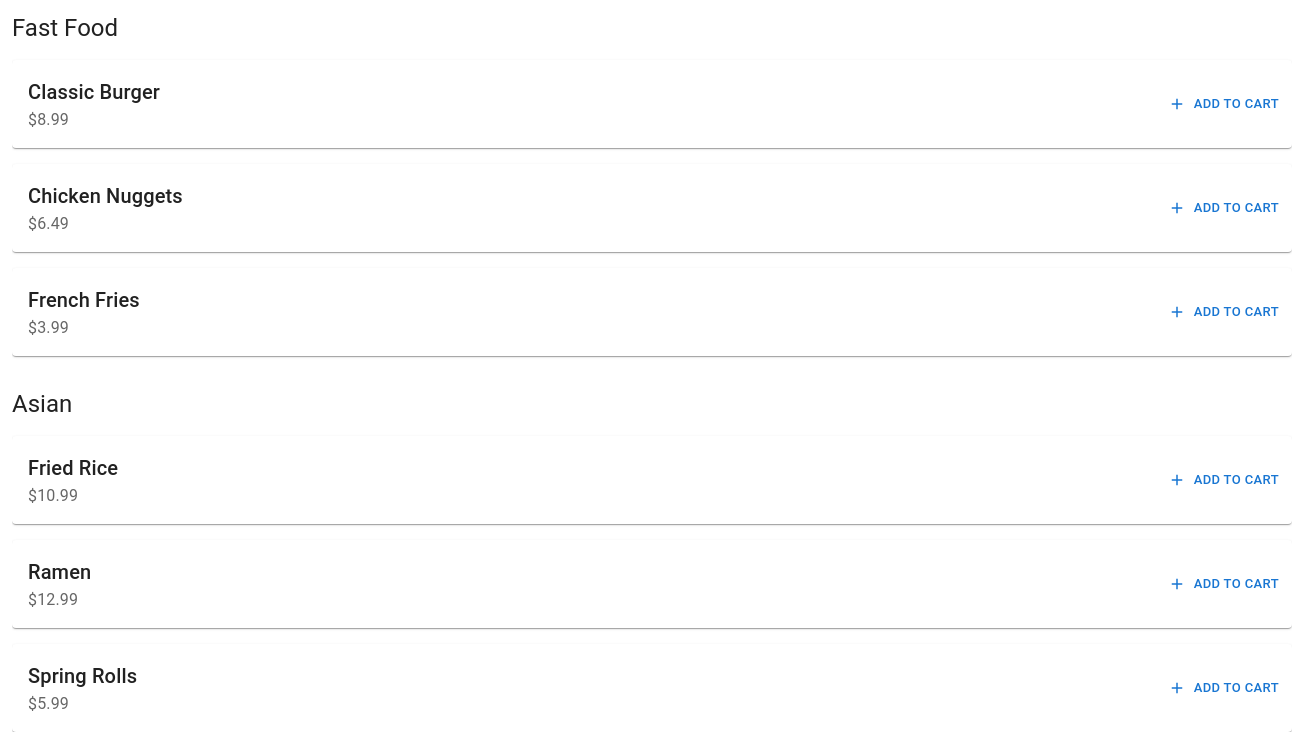
Scenario: Menu › should add item to cart when clicking Add to Cart
Step 1. Click the button "Add to Cart" in the row of "Classic Burger" → coordinates (1224, 104), box x1=1165 y1=89 x2=1284 y2=119
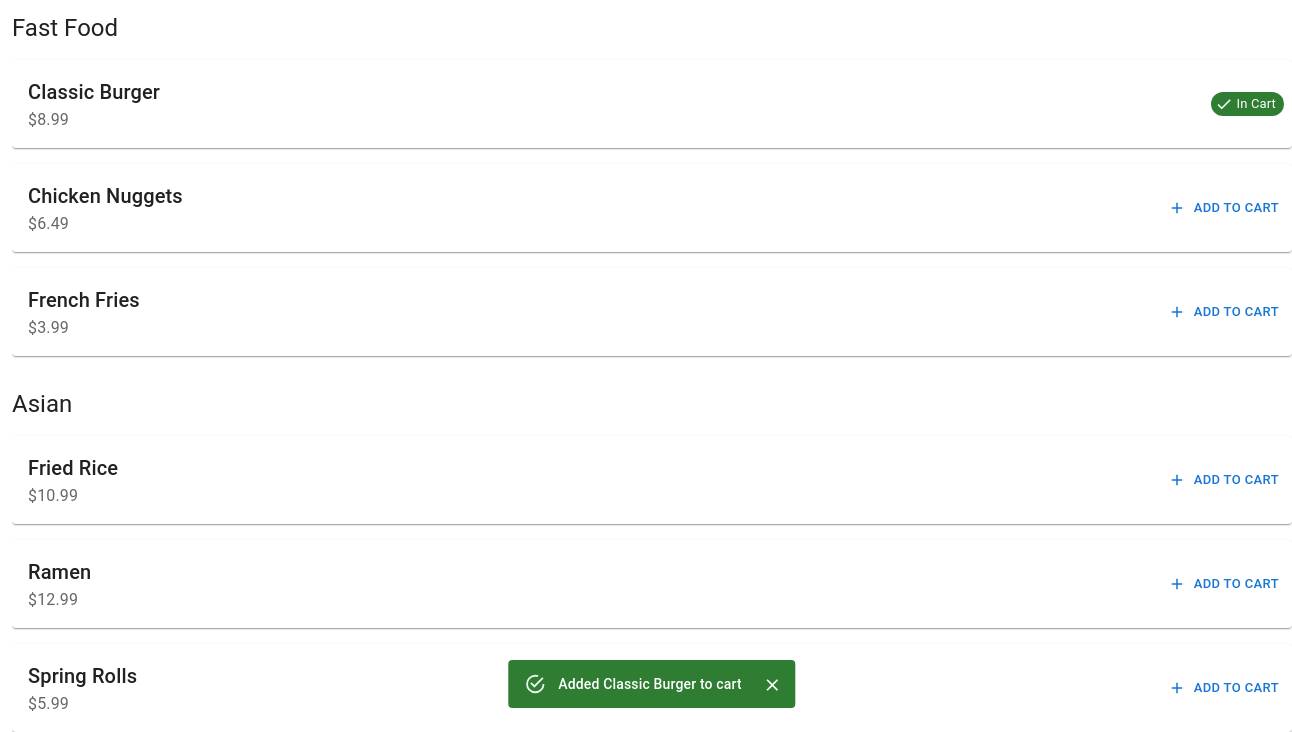
Expected: the text "In Cart" is shown, x1=1236 y1=96 x2=1276 y2=111
